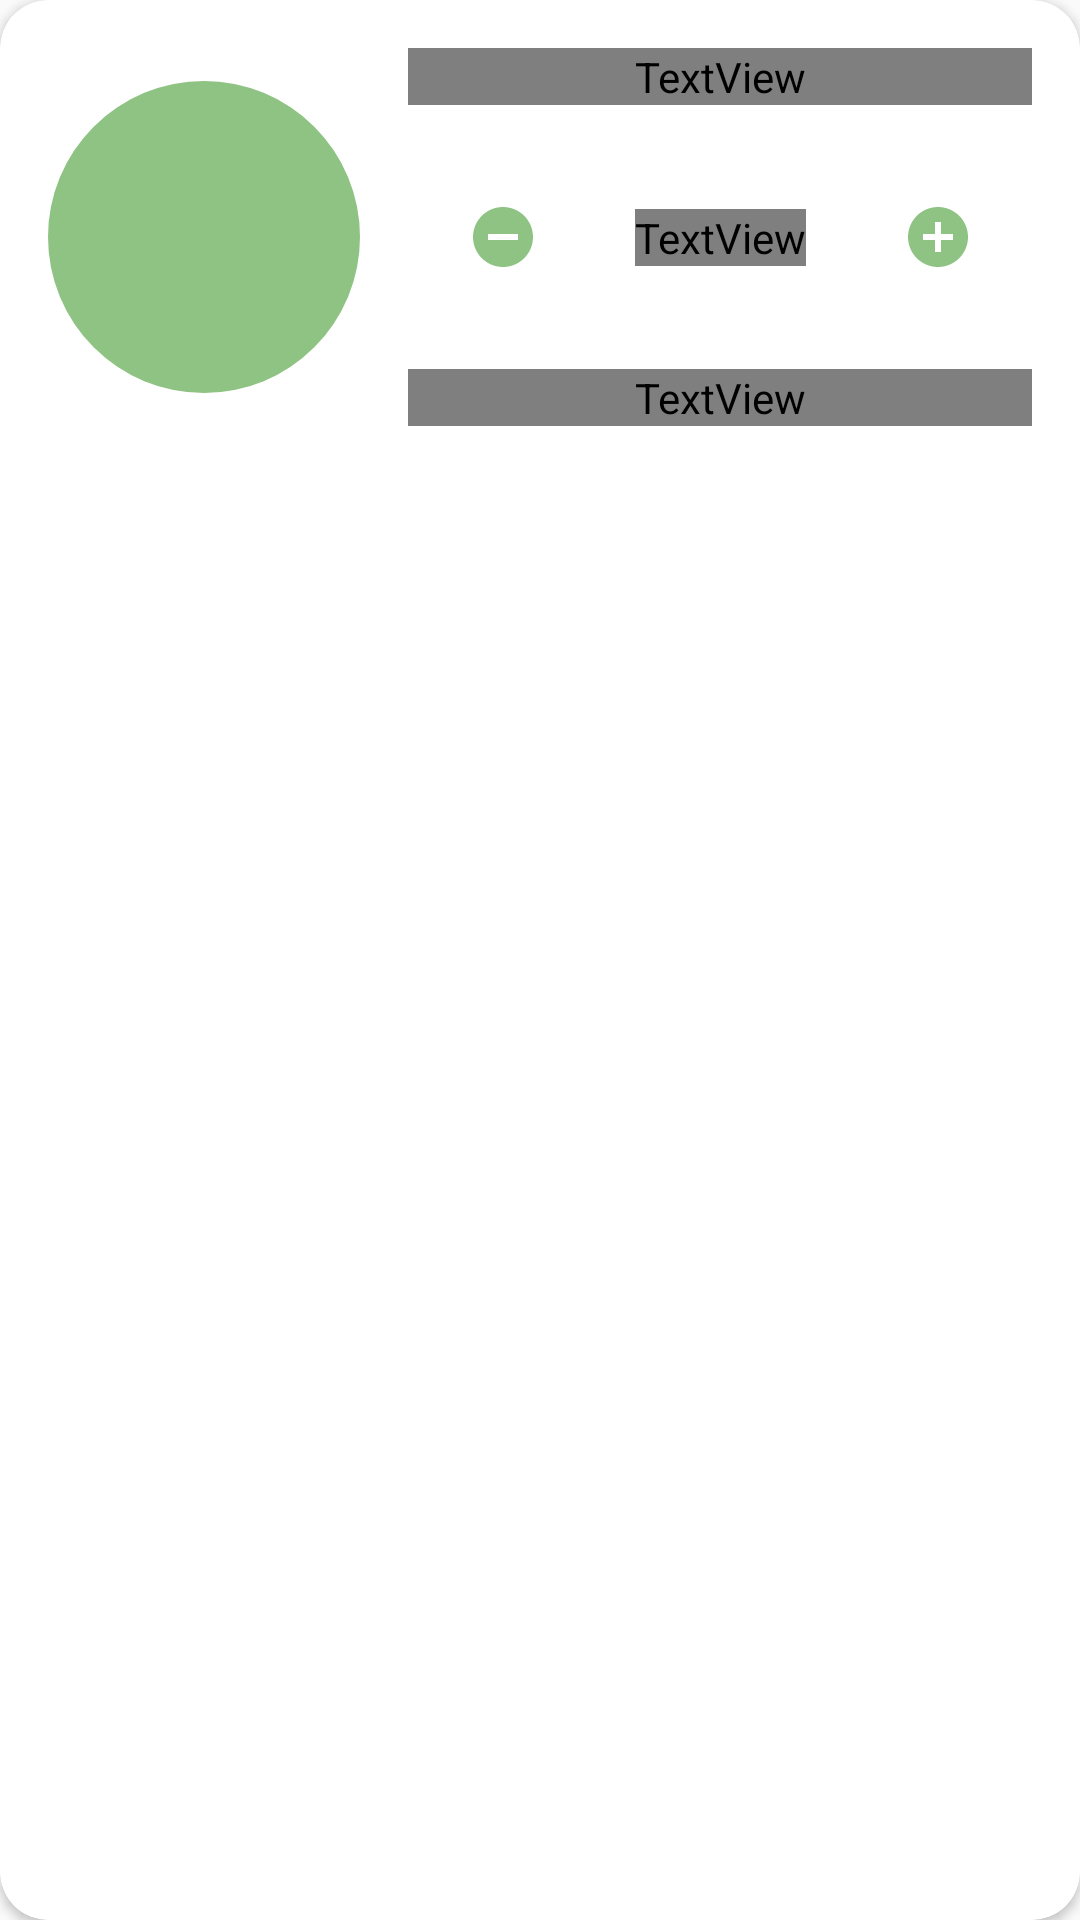

Named icons in this screenshot (1080w x 1920h) and their bounding boxes, (left=x1, top=y1, right=x2, bottom=y2):
add: (left=908, top=207, right=968, bottom=267)
remove: (left=473, top=207, right=533, bottom=267)
